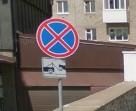No Parking: (37, 19, 80, 60)
